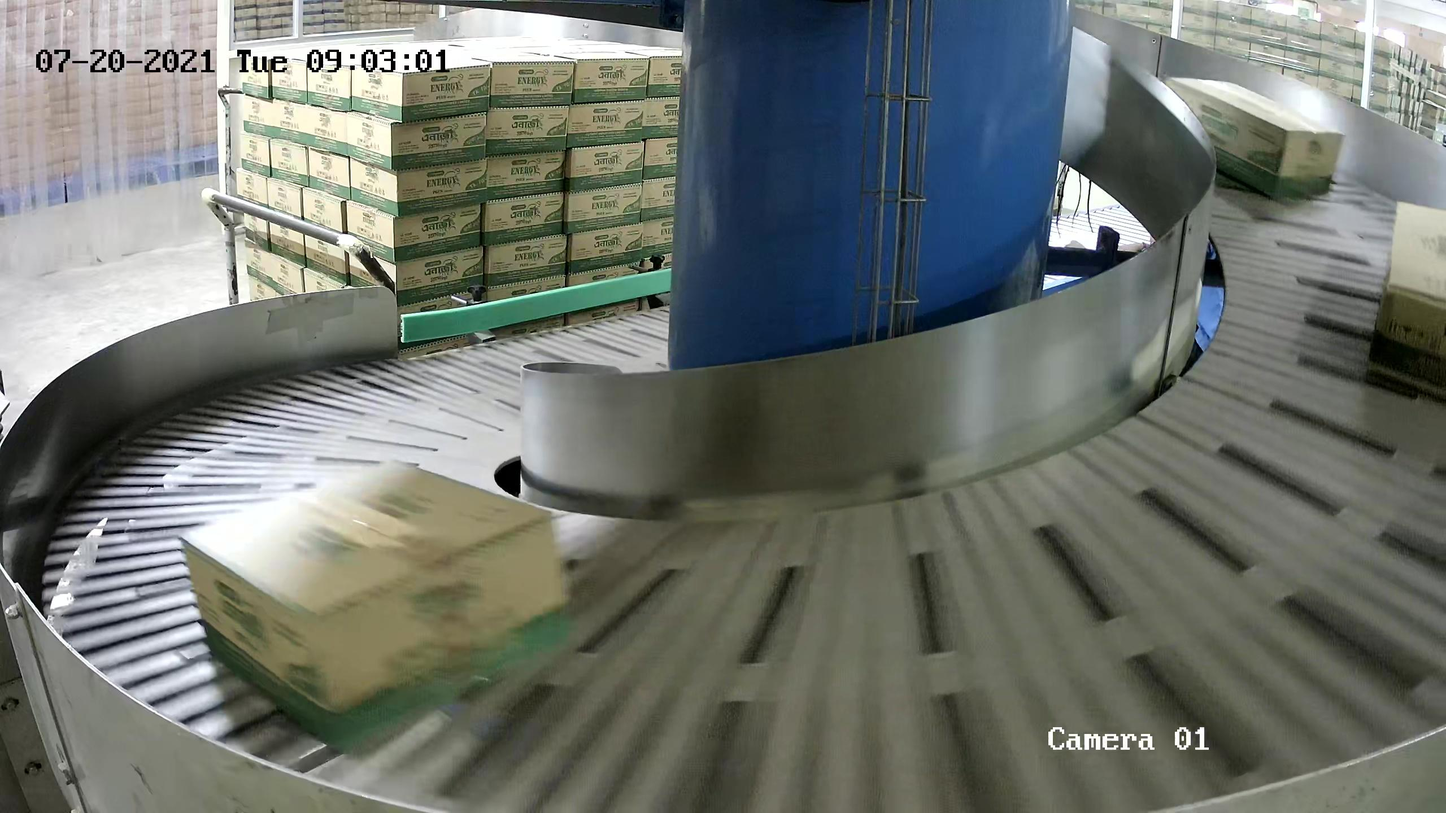Box: (175, 455, 576, 759), (1161, 75, 1346, 200), (1366, 198, 1446, 397)
